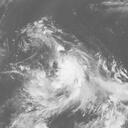cyclone: (33, 46, 90, 96)
